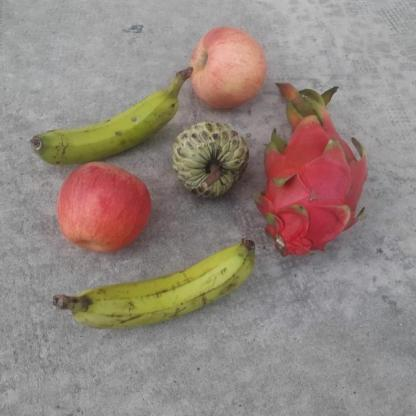annona: (172, 120, 250, 198)
apple: (189, 24, 269, 113)
banana: (52, 238, 257, 330), (30, 66, 193, 164)
pitaya: (250, 83, 369, 259)
